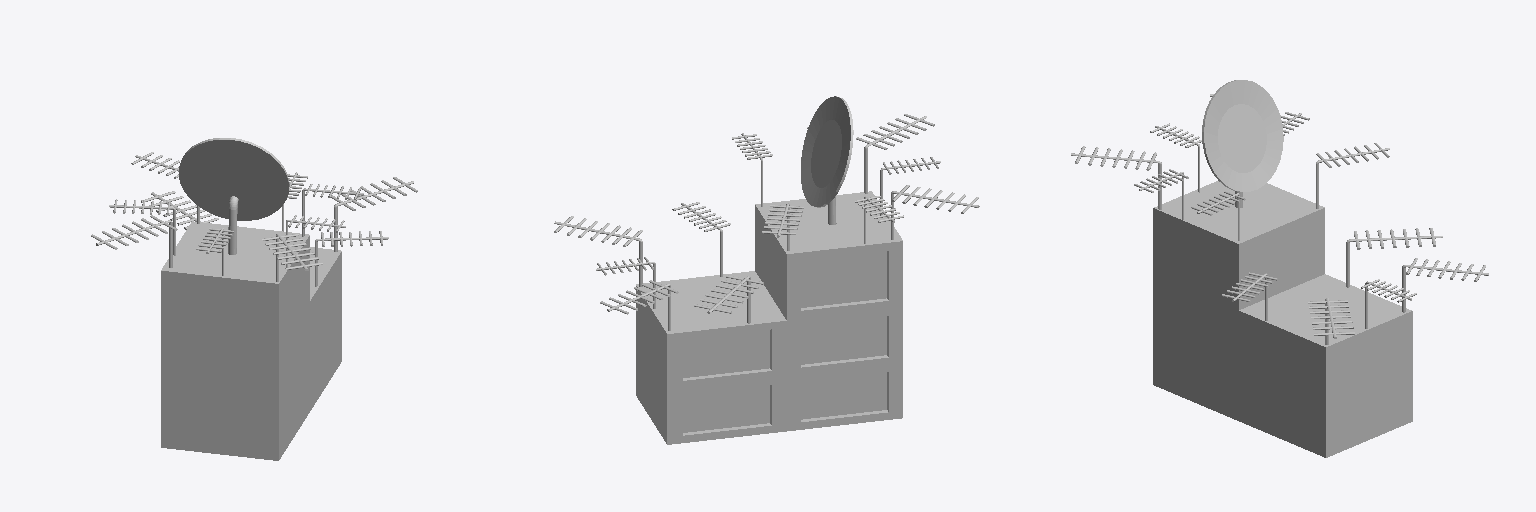
The model's file is controlcenter.obj.
3 views of the same model, side by side, from view 1: azimuth 30°, elevation 25°; view 2: azimuth 150°, elevation 25°; view 3: azimuth 270°, elevation 25° (orthographic).
Visible parts, largest first — view 1: Cube; view 2: Cube; view 3: Cube.
Part boxes in pixels (x1,y1,x2,y2): Cube: (91, 138, 417, 460); Cube: (554, 96, 979, 444); Cube: (1071, 80, 1488, 457).
Bounding box in the file's own units: 1.05 × 0.8092 × 1.03.